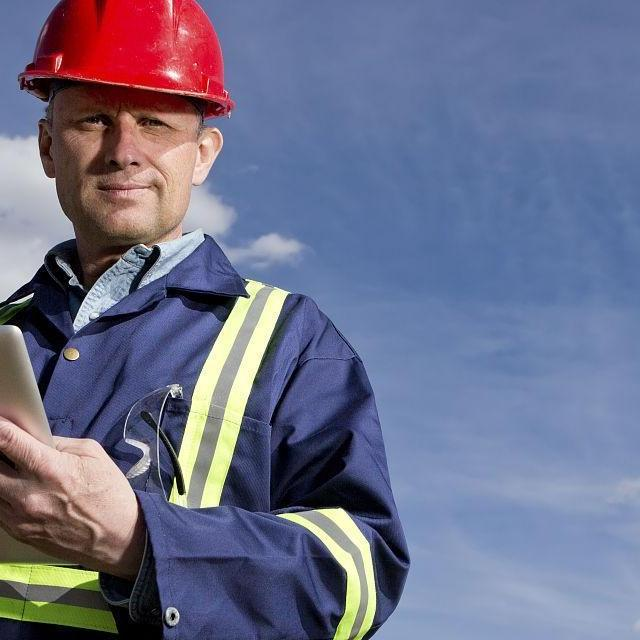Hardhat: (18, 0, 236, 114)
NO-Mask: (53, 164, 196, 242)
Person: (0, 0, 417, 640)
Safety Vest: (0, 282, 374, 640)
